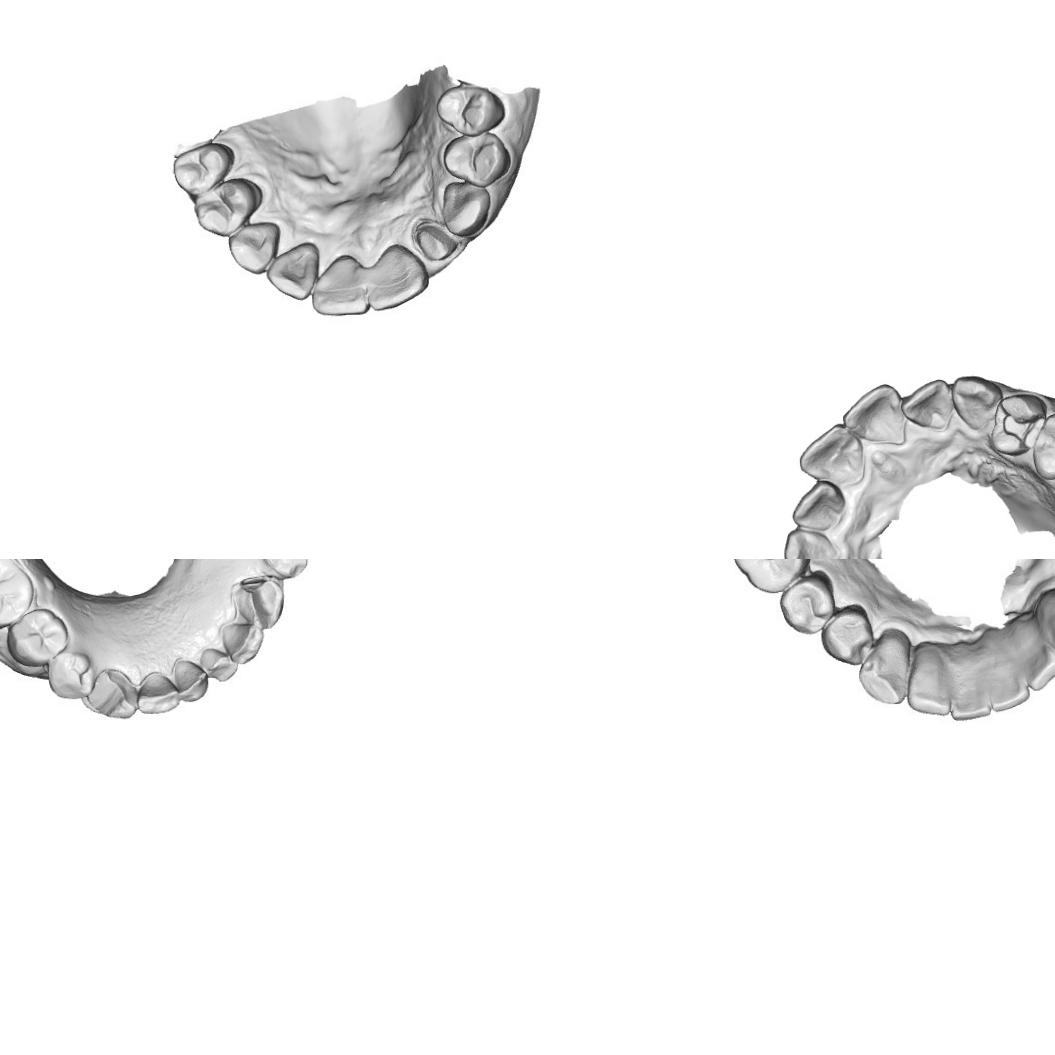canine: (860, 632, 908, 706), (950, 374, 1004, 432), (225, 221, 280, 276), (444, 181, 494, 236), (781, 527, 841, 559), (241, 578, 281, 623), (1036, 595, 1055, 655)
crown: (87, 670, 138, 720), (411, 218, 459, 266)
incisor: (797, 421, 866, 486), (840, 382, 906, 446), (366, 243, 426, 312), (308, 253, 367, 317), (900, 377, 956, 434), (268, 241, 319, 302), (790, 478, 847, 532), (912, 645, 951, 722), (1014, 620, 1055, 687), (989, 658, 1026, 708), (137, 672, 180, 714), (950, 674, 988, 720), (174, 652, 208, 702), (222, 623, 266, 660), (205, 646, 238, 678)
inlay: (1000, 405, 1046, 452)
molar: (730, 559, 809, 594), (0, 559, 27, 626)
premolar: (190, 178, 260, 238), (172, 142, 232, 196), (446, 133, 510, 182), (15, 610, 70, 660), (440, 87, 500, 132), (824, 608, 868, 663), (782, 582, 828, 632), (51, 652, 97, 697), (1030, 409, 1055, 480), (263, 559, 309, 581)
